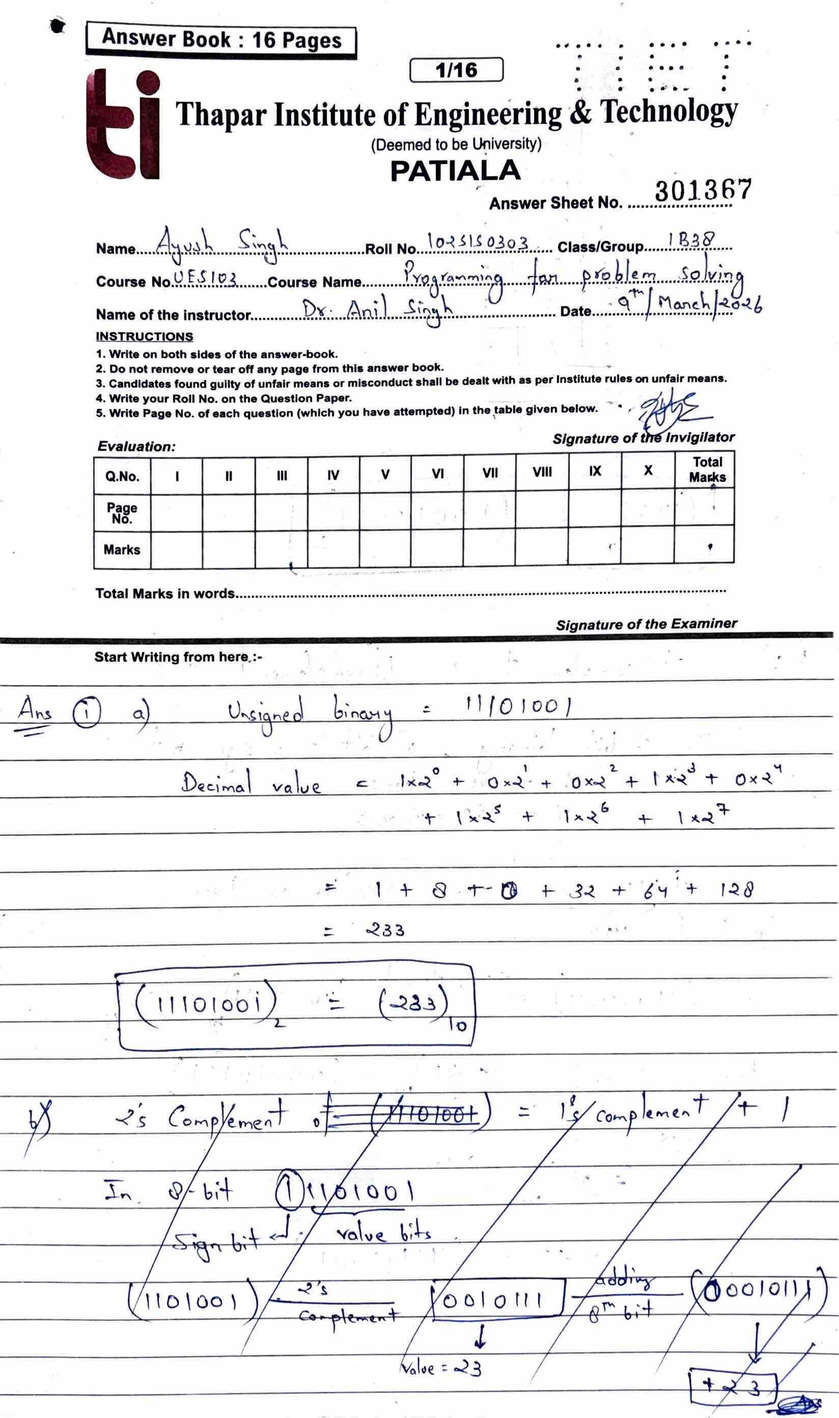cuttings: (102, 1088, 830, 1418), (22, 1099, 55, 1160)
